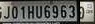character: (26, 5, 34, 19), (3, 5, 10, 19), (35, 5, 42, 19), (43, 4, 50, 18), (60, 4, 67, 18), (68, 4, 75, 18), (11, 6, 18, 19), (51, 5, 58, 18), (20, 5, 26, 19)
